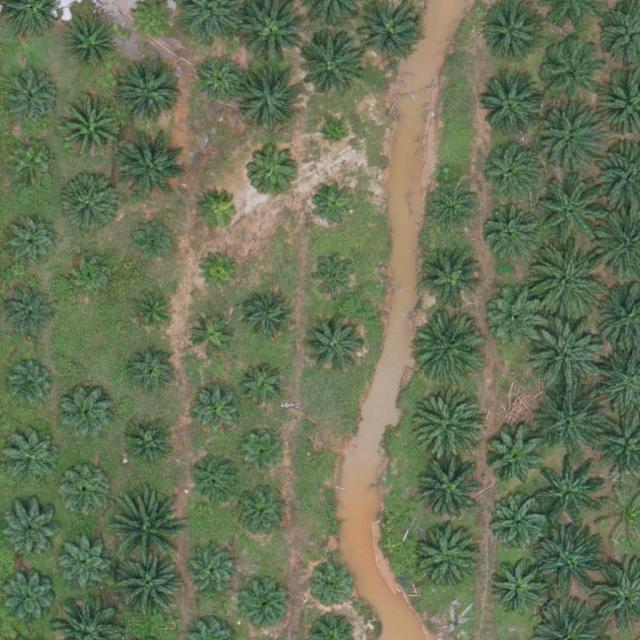Healthy: (536, 525, 607, 596), (417, 457, 487, 528), (412, 389, 483, 459), (415, 311, 485, 382), (114, 496, 184, 567), (112, 554, 182, 625), (119, 131, 189, 202), (534, 104, 604, 175), (538, 175, 608, 246), (535, 247, 605, 318), (294, 30, 364, 101), (534, 455, 604, 525), (537, 383, 607, 453), (530, 322, 600, 392), (239, 63, 309, 133), (485, 493, 548, 556), (59, 98, 122, 161), (484, 425, 546, 488), (488, 553, 550, 616), (419, 525, 481, 588), (303, 315, 365, 378), (120, 59, 182, 122), (540, 38, 602, 101), (485, 286, 548, 348), (481, 134, 543, 197), (481, 77, 543, 140), (420, 247, 482, 310), (60, 172, 122, 234), (483, 198, 545, 260), (189, 381, 244, 437), (125, 346, 180, 401), (118, 419, 173, 474), (233, 486, 288, 541), (183, 546, 238, 601), (239, 581, 294, 636), (3, 508, 58, 563), (3, 571, 58, 626), (59, 466, 114, 521), (4, 431, 59, 486), (193, 54, 248, 109), (2, 287, 57, 342), (6, 213, 61, 268), (63, 18, 118, 73), (307, 175, 362, 230), (309, 249, 364, 304), (424, 177, 479, 232), (246, 140, 301, 195), (243, 289, 298, 344), (188, 453, 242, 508), (60, 386, 114, 441), (58, 537, 112, 592), (5, 68, 59, 123)
Small: (7, 362, 54, 410), (131, 219, 178, 267), (240, 431, 287, 479), (308, 564, 355, 612), (129, 289, 176, 337), (196, 188, 243, 235), (9, 139, 56, 186), (187, 313, 234, 360), (71, 254, 118, 301), (242, 366, 289, 413), (196, 248, 243, 295), (320, 122, 351, 153)
